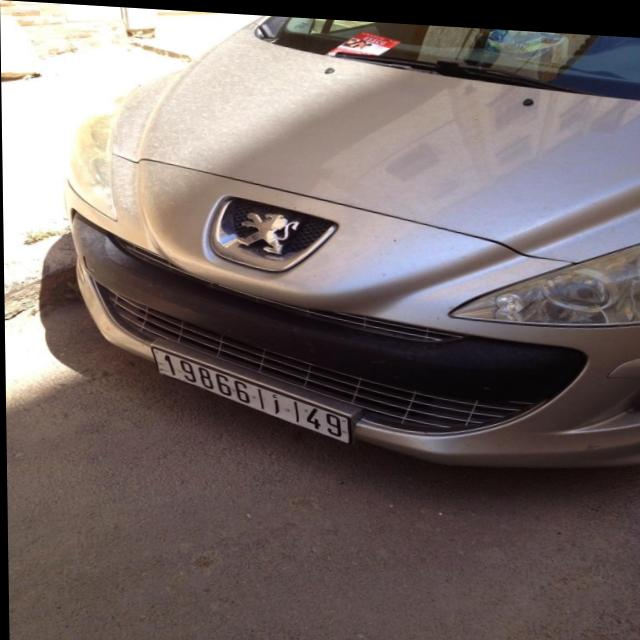License-Plate: (151, 346, 348, 438)
